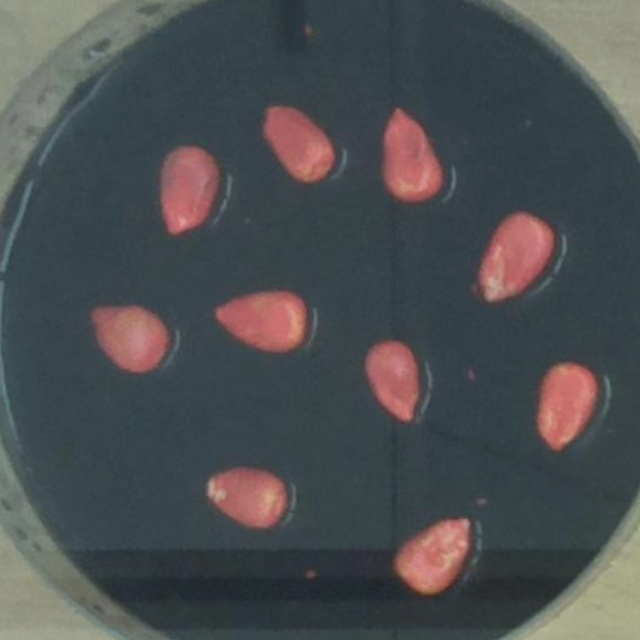Zea mays: (469, 201, 563, 312), (386, 508, 482, 602), (205, 280, 317, 360), (374, 98, 452, 211), (254, 97, 343, 192), (83, 296, 179, 383), (527, 354, 607, 458), (151, 136, 227, 243), (199, 458, 296, 536), (356, 330, 427, 428)
